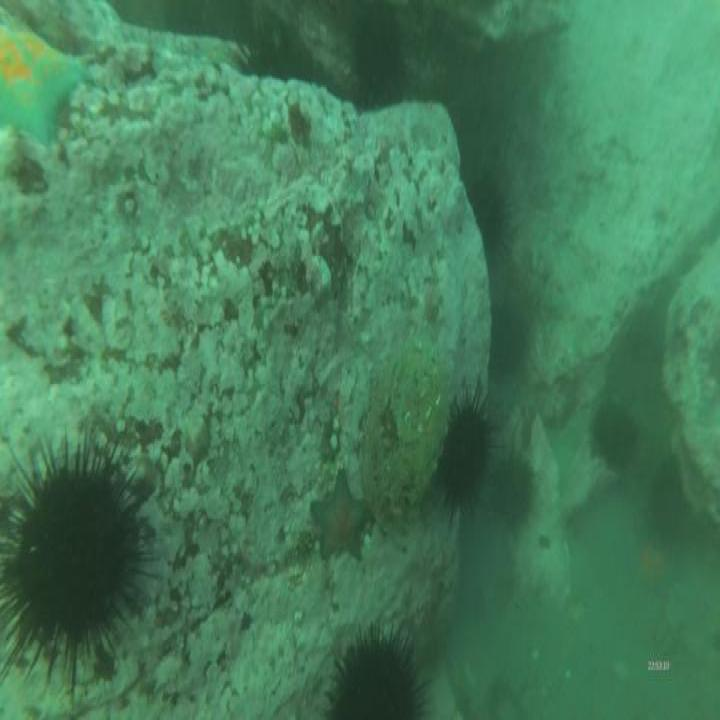echinus: (3, 462, 144, 667), (330, 634, 423, 720), (441, 394, 485, 509), (465, 174, 507, 263), (595, 396, 638, 470), (649, 454, 685, 542), (488, 299, 527, 377), (498, 452, 535, 532)
starfish: (3, 28, 83, 146), (309, 471, 368, 562), (634, 524, 678, 601)
